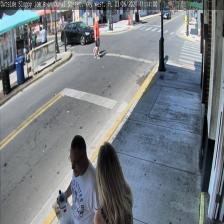person: (56, 134, 102, 223), (94, 141, 134, 223)
